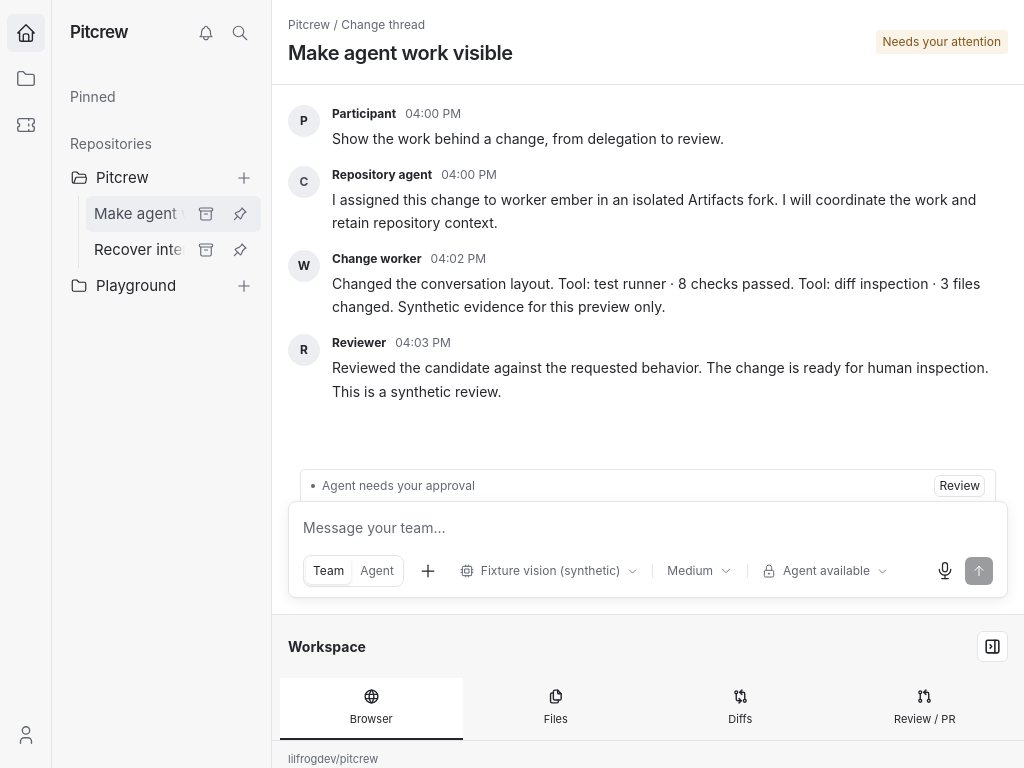
Test case: cancels an active session on thread switch and rejects late results
Expected: the text "Show the work behind a change, from delegation to review." is shown, [332,130,724,147]
Click the button named "Dictate message".
click(945, 571)  # box [929,555,961,587]
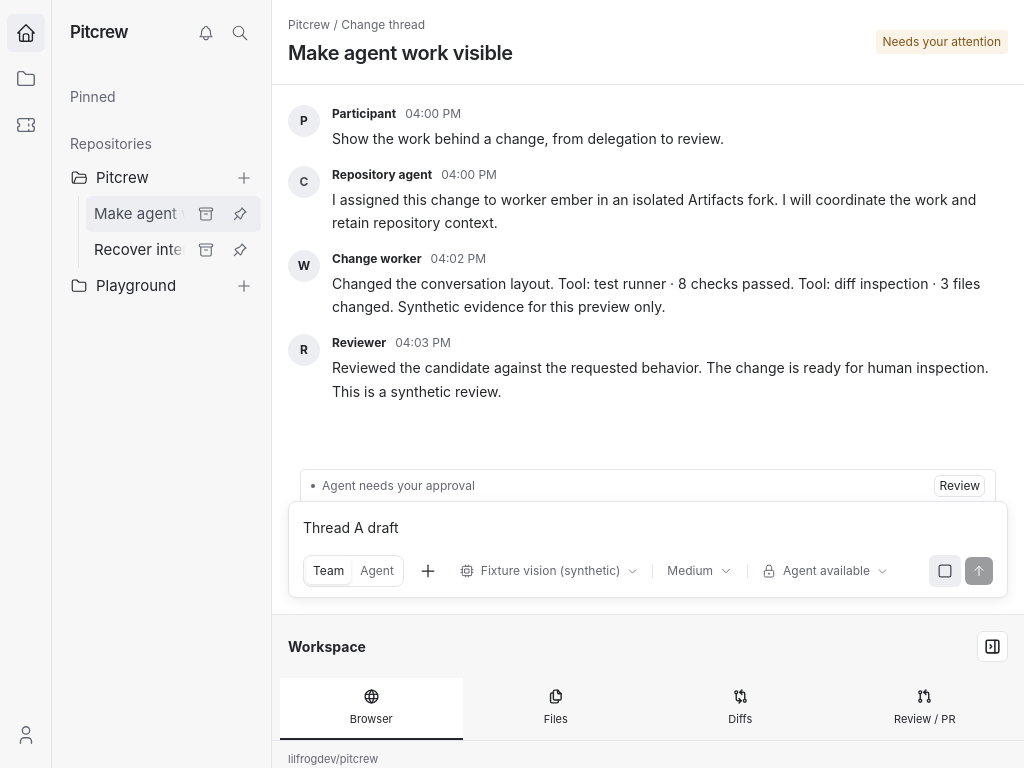
Click the button "Recover interrupted work".
click(174, 250)  # box [86,233,261,267]
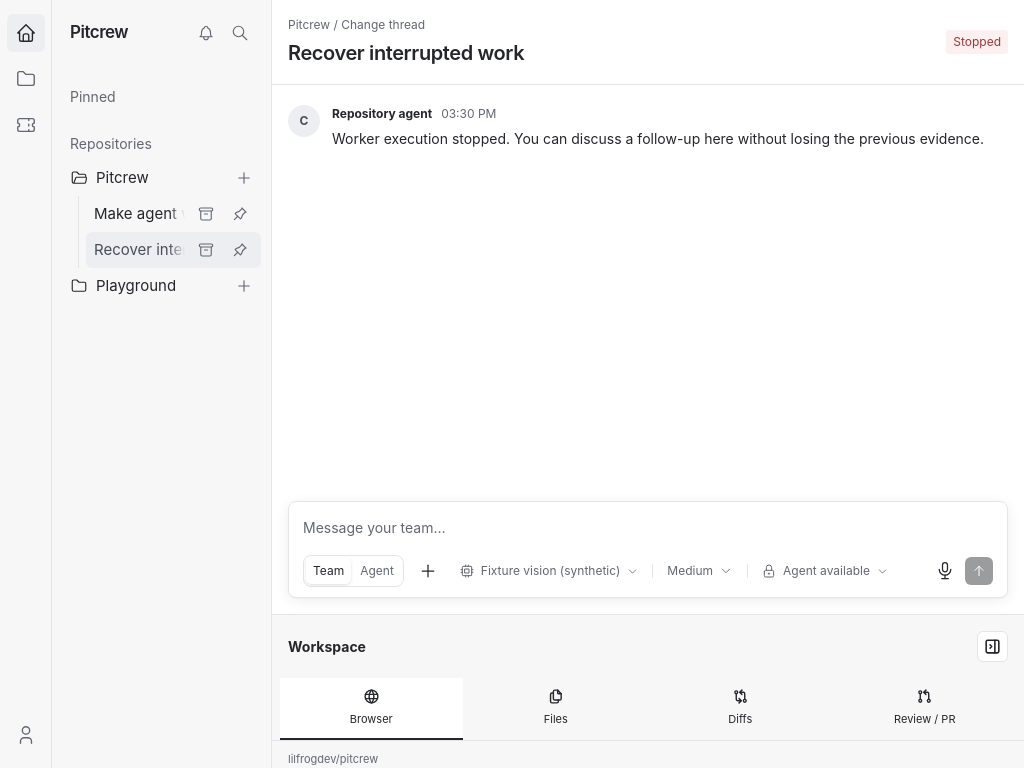
Now the text "Worker execution stopped" is shown, box [332,130,984,147]
Now the dropdown named "Message your crew" is empty, box [303,516,993,540]
Click the button "Make agent work visible".
click(174, 214)  # box [86,197,261,231]
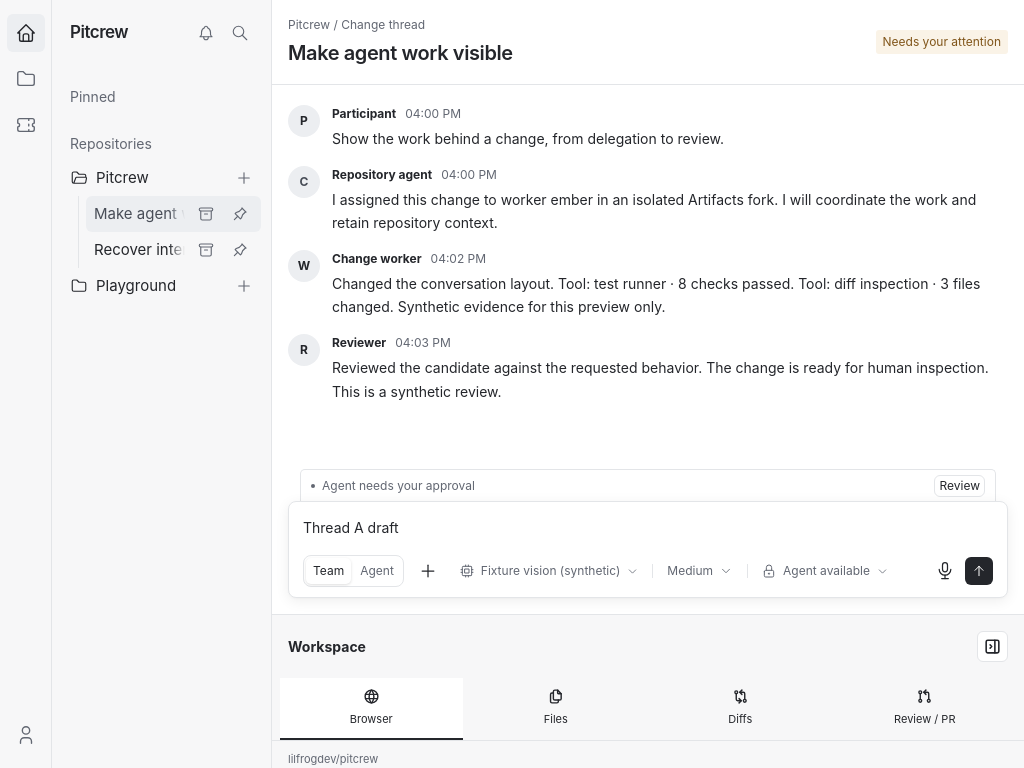
Now the dropdown named "Message your crew" holds "Thread A draft", box [303,516,993,540]
